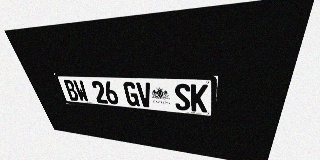2: (91, 81, 108, 104)
6: (102, 81, 119, 105)
B: (62, 80, 80, 101)
G: (122, 82, 140, 106)
K: (191, 84, 208, 112)
S: (174, 83, 190, 111)
V: (136, 82, 153, 108)
W: (72, 80, 90, 102)
